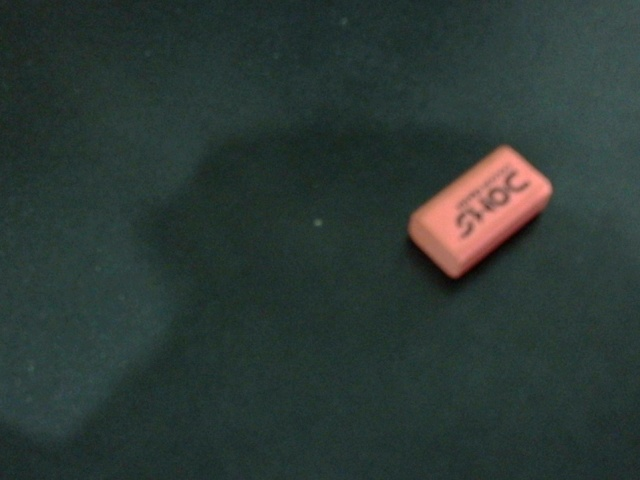eraser: (367, 122, 584, 300)
